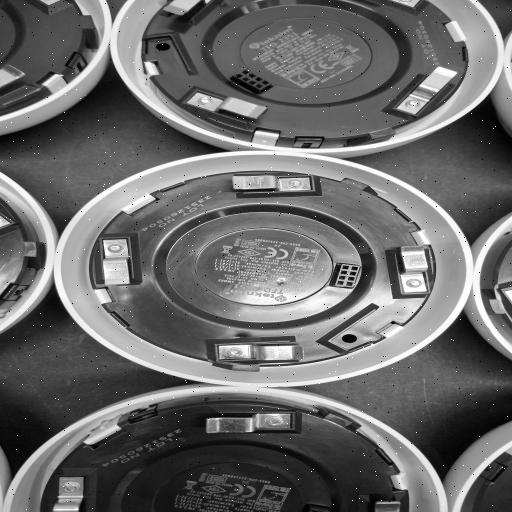yaysiz: (186, 409, 314, 440), (387, 64, 458, 119), (205, 334, 321, 366), (212, 171, 321, 204), (91, 232, 143, 292), (180, 93, 268, 125), (384, 242, 432, 299)
